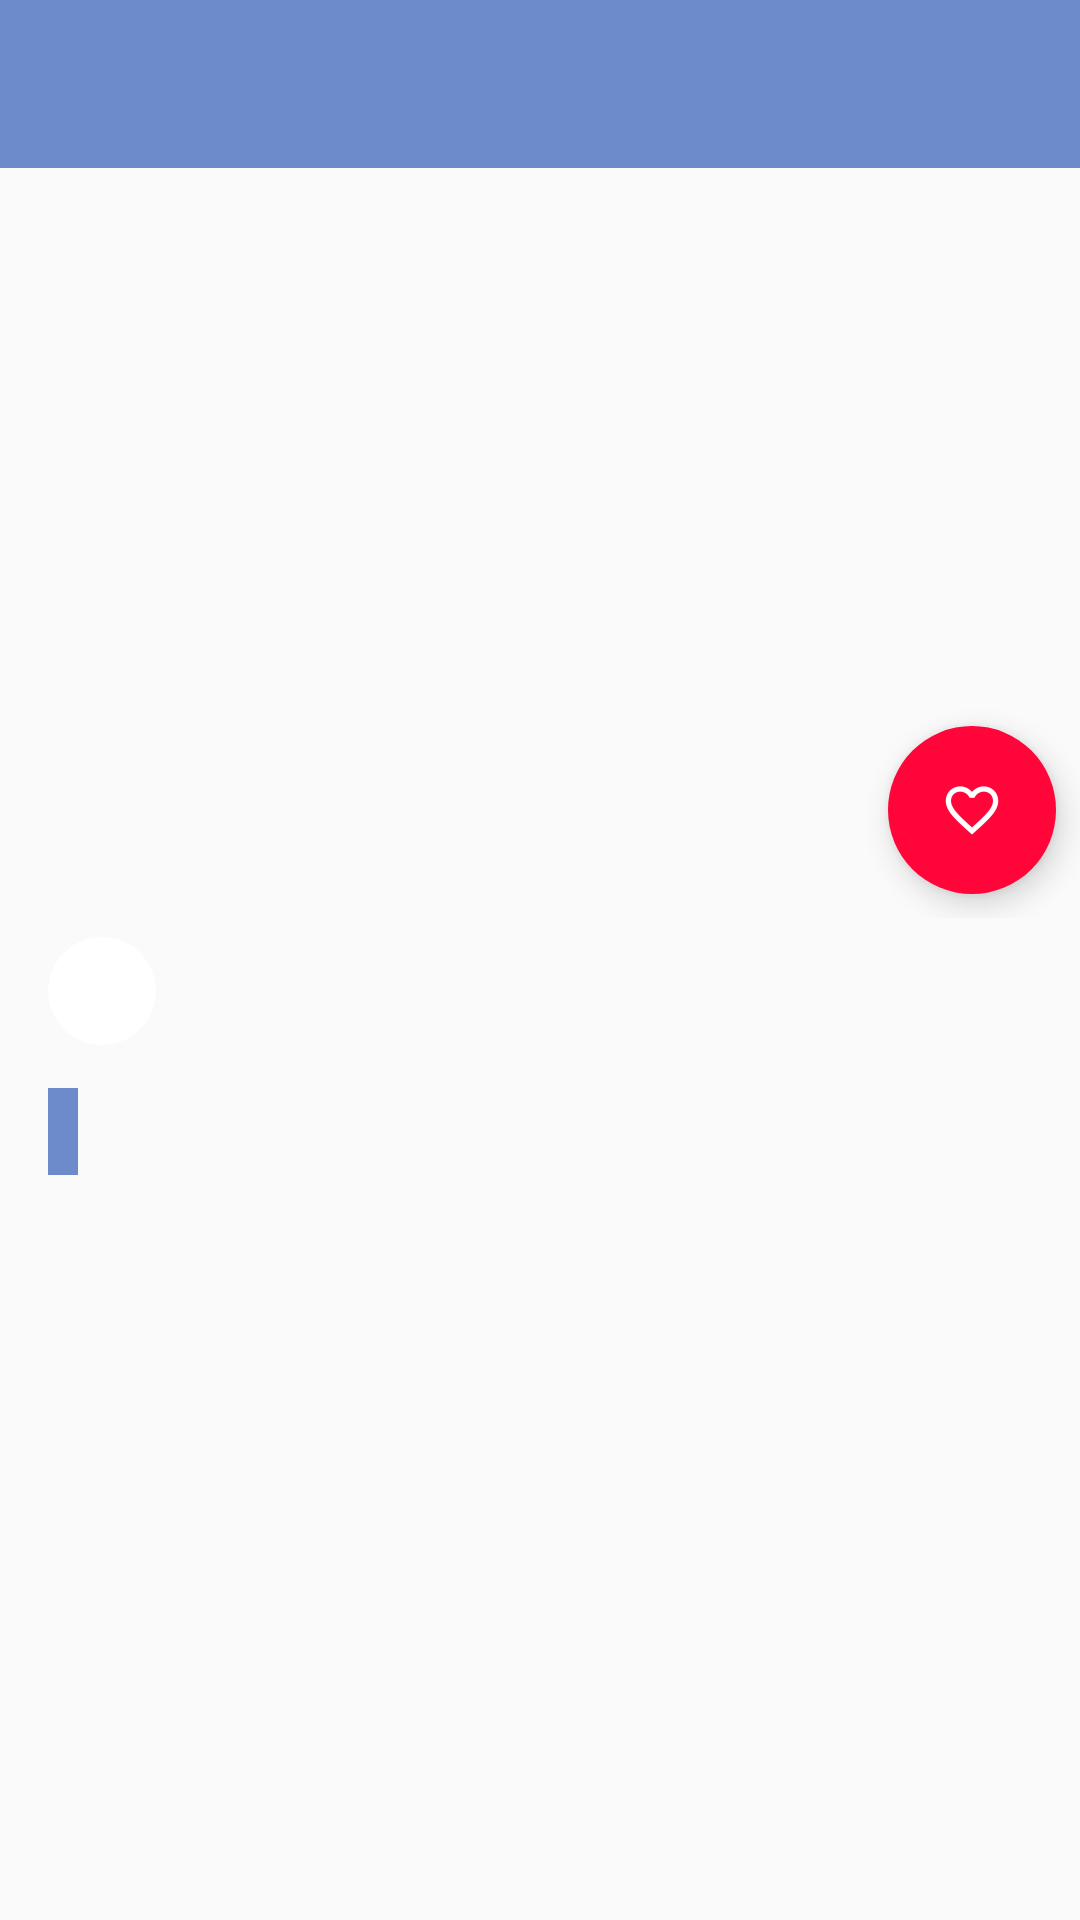

Locate icon controls on the screen. Image size 1080 × 1920, boxes as (x1, y1, x2, y2).
favourite border: (888, 726, 1056, 894)
